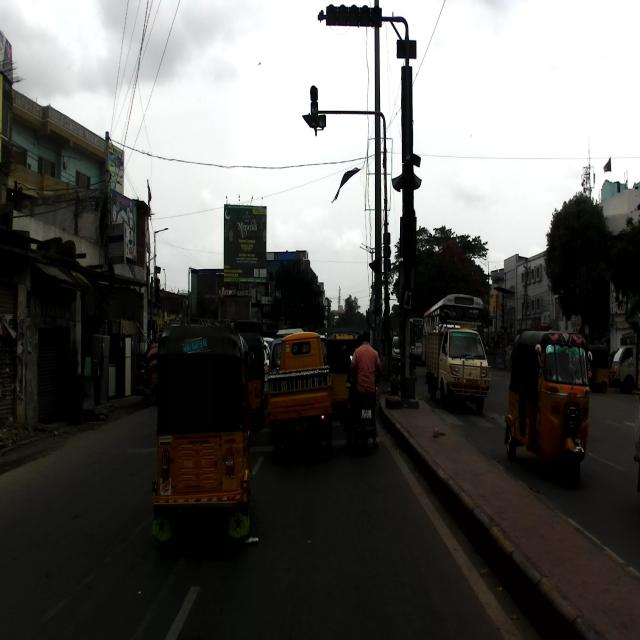autorickshaw: (148, 316, 256, 554), (502, 329, 593, 488), (267, 332, 333, 462)
motorcycle: (344, 359, 377, 452)
